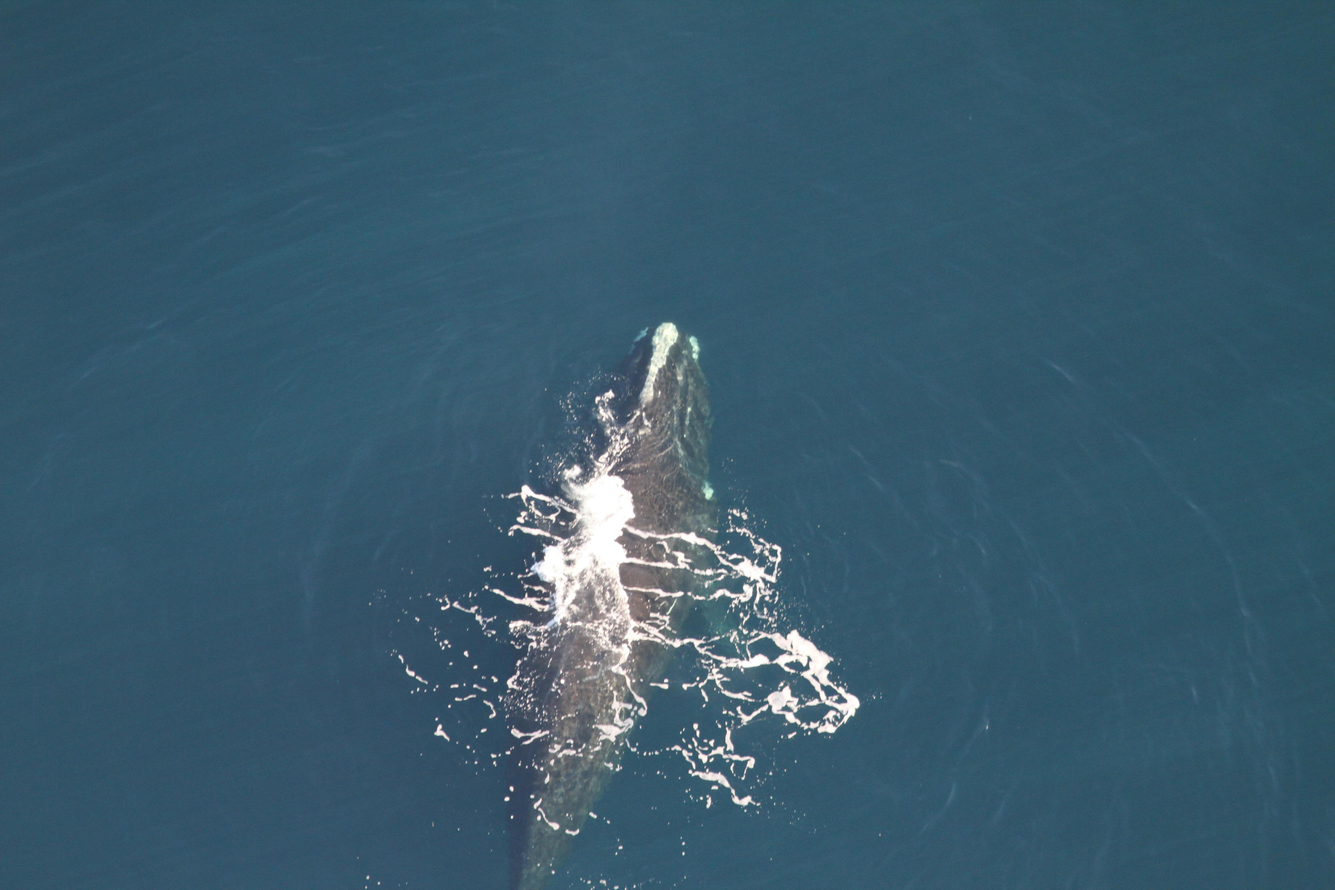whale: (485, 314, 767, 890)
